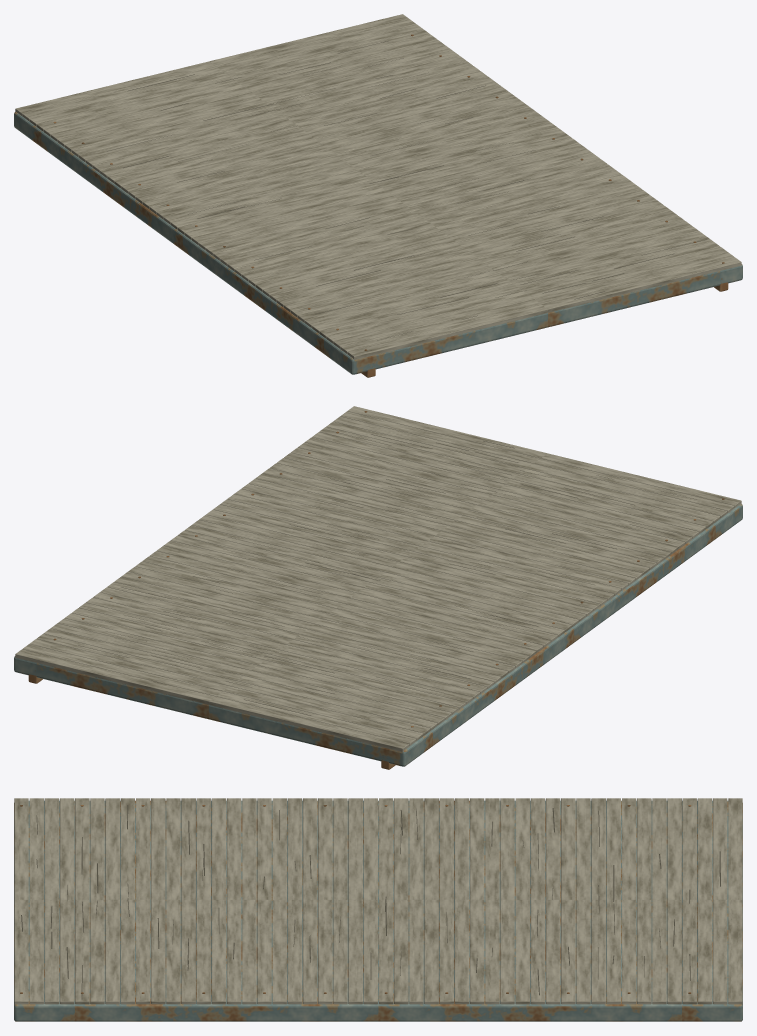
Rendered from Pier_8x12.glb.
3 renders of one model, top to bottom at view 1: azimuth 30°, elevation 25°; view 2: azimuth 150°, elevation 25°; view 3: azimuth 270°, elevation 25°, orthographic. The views are drawn at different scales.
Visible parts, largest first — view 1: Pier_8x12; view 2: Pier_8x12; view 3: Pier_8x12.
Boxes of the visible parts, x1=… form: Pier_8x12: x1=14, y1=14, x2=742, y2=377; Pier_8x12: x1=14, y1=406, x2=742, y2=769; Pier_8x12: x1=14, y1=798, x2=742, y2=1021.
Size of the model in its own units: 8 by 0.499 by 12.
Materials: 4 (3 with a texture image).
